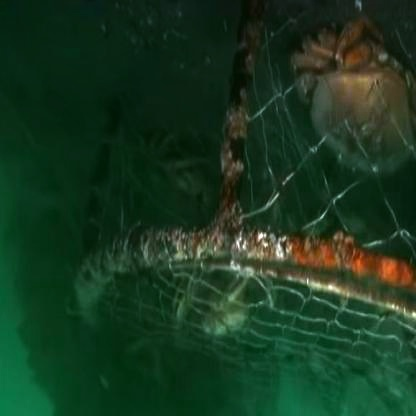net: (109, 197, 383, 391)
